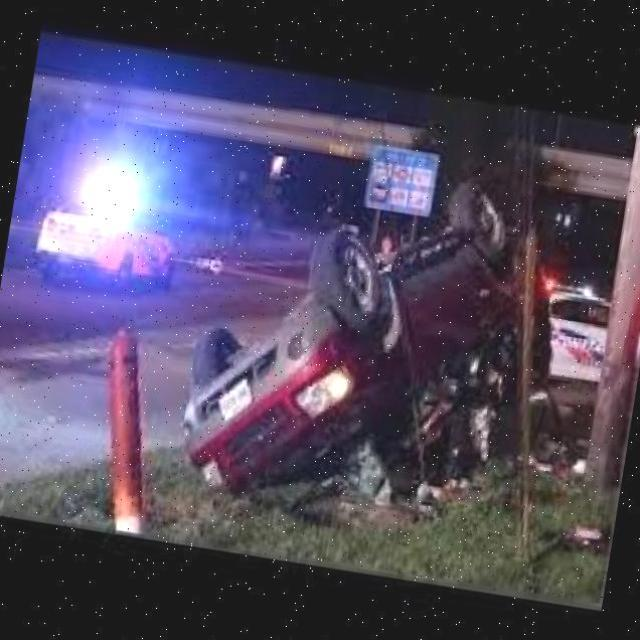accident: (151, 134, 584, 545)
